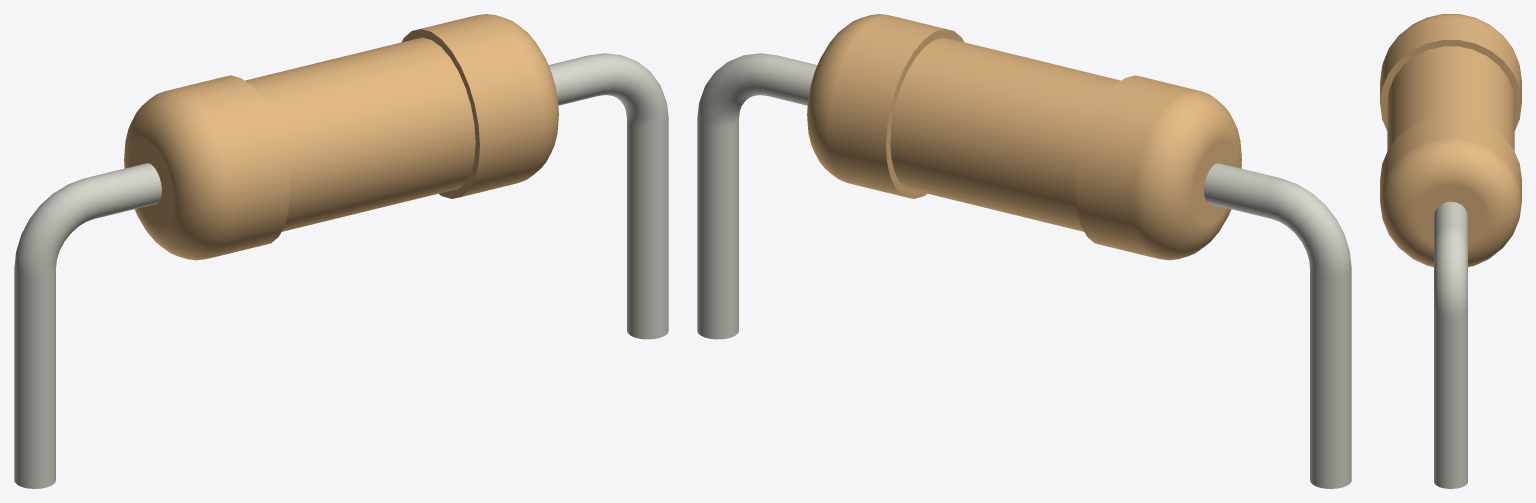
The model's file is resistor.glb.
3 renders of one model, left to right at view 1: azimuth 30°, elevation 25°; view 2: azimuth 150°, elevation 25°; view 3: azimuth 270°, elevation 25°, orthographic. The views are drawn at different scales.
Parts seen in each view (by area): view 1: R_Axial_DIN0207_L63mm_D25mm_P1016mm_Horizontal_9df800, R_Axial_DIN0207_L63mm_D25mm_P1016mm_Horizontal_6dec85; view 2: R_Axial_DIN0207_L63mm_D25mm_P1016mm_Horizontal_9df800, R_Axial_DIN0207_L63mm_D25mm_P1016mm_Horizontal_6dec85; view 3: R_Axial_DIN0207_L63mm_D25mm_P1016mm_Horizontal_9df800, R_Axial_DIN0207_L63mm_D25mm_P1016mm_Horizontal_6dec85.
Part boxes in pixels (x1,y1,x2,y2): R_Axial_DIN0207_L63mm_D25mm_P1016mm_Horizontal_9df800: (124,14,558,260); R_Axial_DIN0207_L63mm_D25mm_P1016mm_Horizontal_6dec85: (14,53,668,488); R_Axial_DIN0207_L63mm_D25mm_P1016mm_Horizontal_9df800: (807,14,1241,260); R_Axial_DIN0207_L63mm_D25mm_P1016mm_Horizontal_6dec85: (697,53,1351,488); R_Axial_DIN0207_L63mm_D25mm_P1016mm_Horizontal_9df800: (1380,14,1521,267); R_Axial_DIN0207_L63mm_D25mm_P1016mm_Horizontal_6dec85: (1434,201,1467,488).
Bounding box in the file's own units: 1 × 0.5103 × 0.2323.
